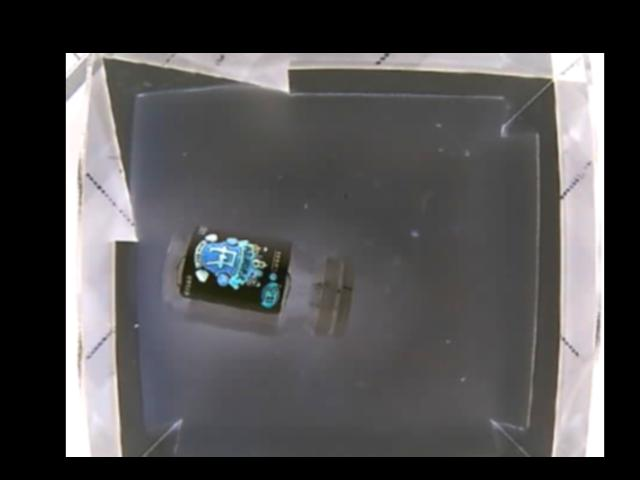Bottle: (159, 216, 354, 339)
